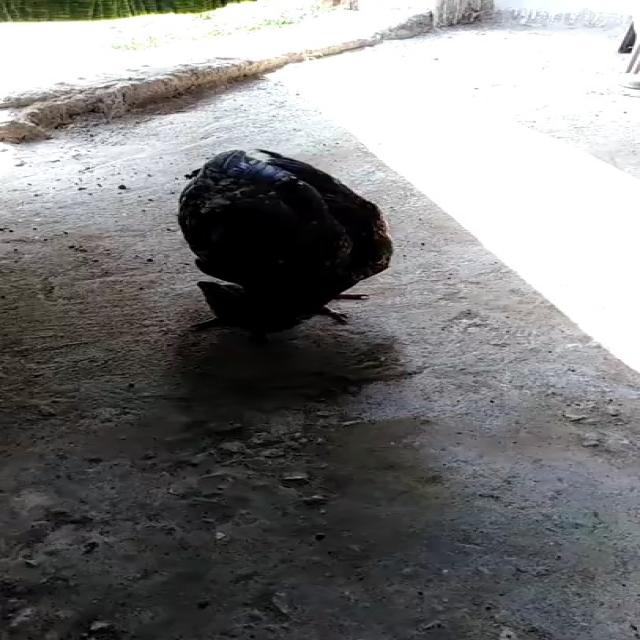newcastle: (123, 144, 422, 340)
